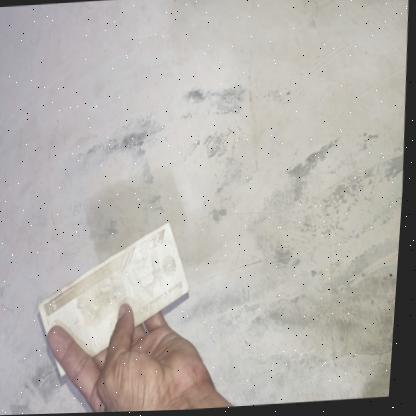five-back-vef: (37, 222, 200, 379)
